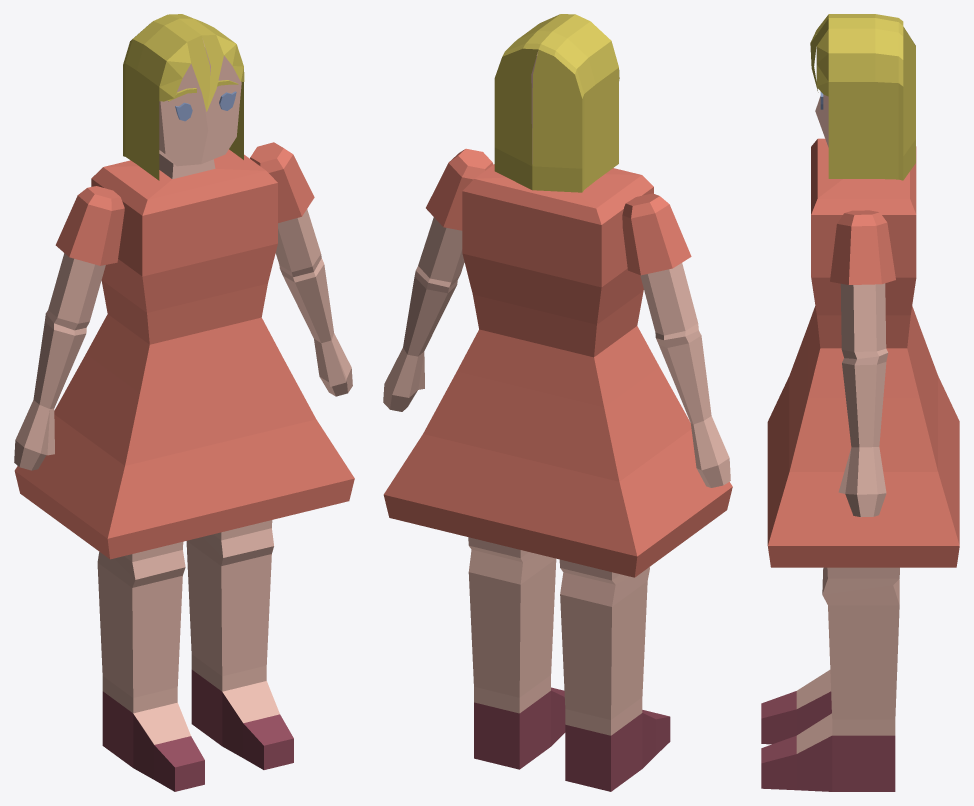
Rendered from Filha.fbx.
The picture shows the model from 3 angles, left to right: view 1: azimuth 30°, elevation 25°; view 2: azimuth 150°, elevation 25°; view 3: azimuth 270°, elevation 25°; orthographic projection. The views are drawn at different scales.
Visible parts, largest first — view 1: corpo, pes, braços, cabelo, cabeça; view 2: corpo, pes, braços, cabelo; view 3: corpo, pes, cabelo, braços, cabeça.
Part boxes in pixels (x1,y1,x2,y2): corpo: (14, 149, 354, 559); pes: (97, 520, 293, 791); braços: (14, 142, 352, 470); cabelo: (123, 14, 244, 180); cabeça: (159, 41, 241, 166); corpo: (383, 164, 732, 577); pes: (468, 537, 670, 791); braços: (383, 148, 730, 487); cabelo: (494, 14, 619, 192); corpo: (767, 138, 959, 567); pes: (761, 567, 899, 791); cabelo: (810, 14, 915, 180); braços: (830, 210, 895, 517); cabeça: (815, 94, 828, 147).
Size of the model in its own units: 50.19 by 103 by 25.09.
